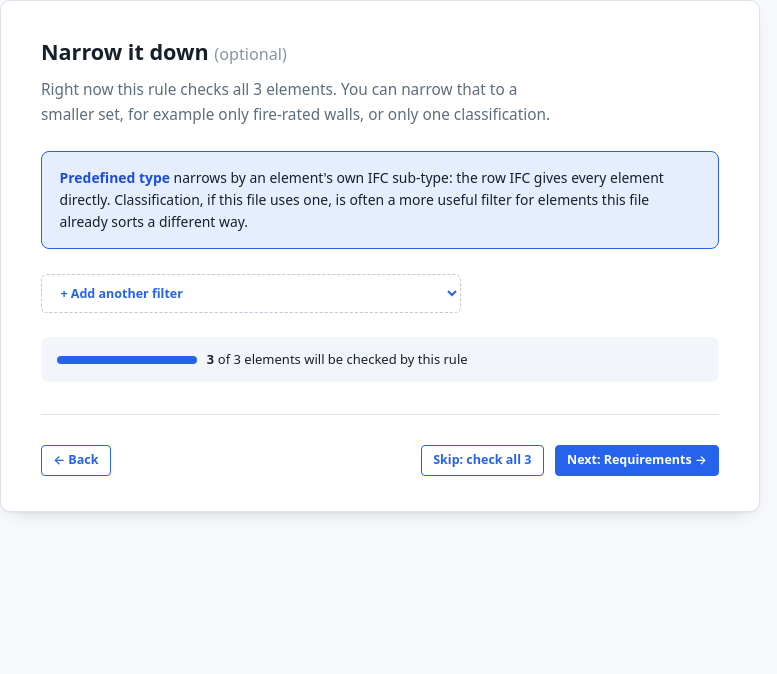
Test: WizardNarrowStep › adding a classification filter narrows the live match count
Select "Classification" in the dropdown named "Add another filter": (251, 294) [41,274,461,313]
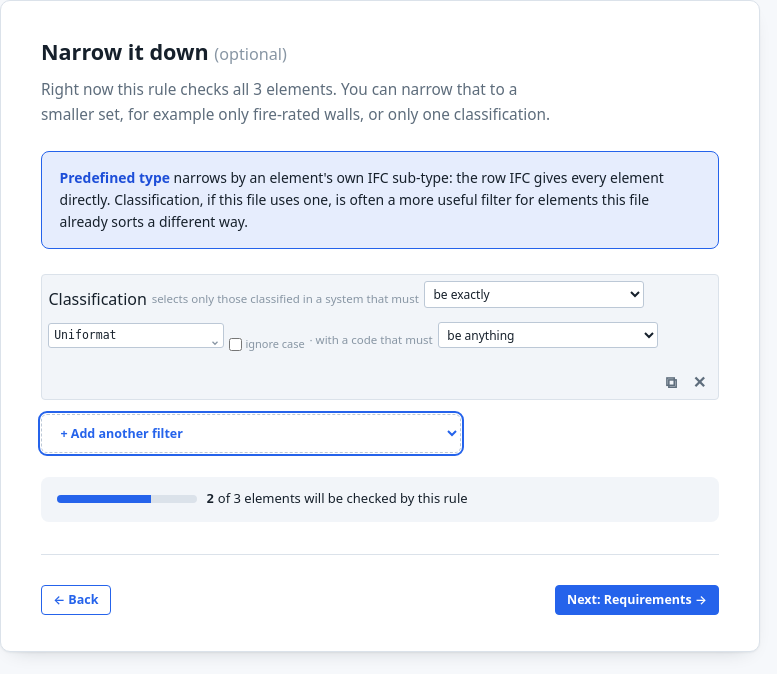
Now the button "Skip" is gone
